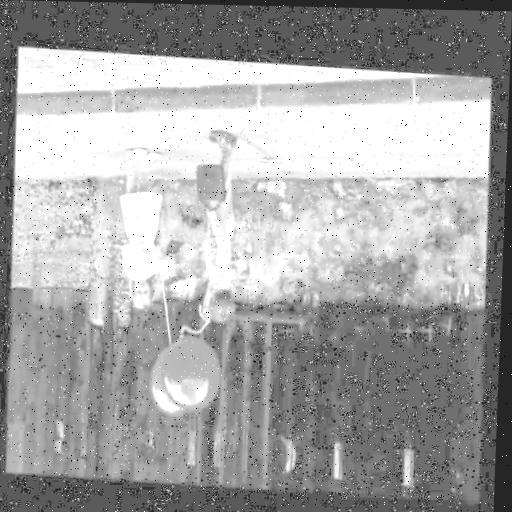balloon: (158, 330, 221, 413), (147, 342, 185, 417)
